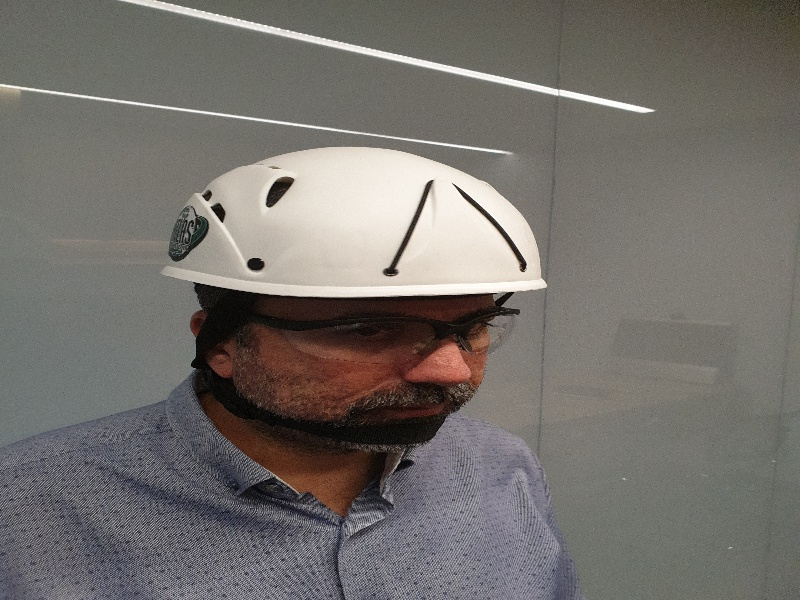Baret: (163, 146, 551, 299)
Gozluk: (218, 307, 519, 357)
